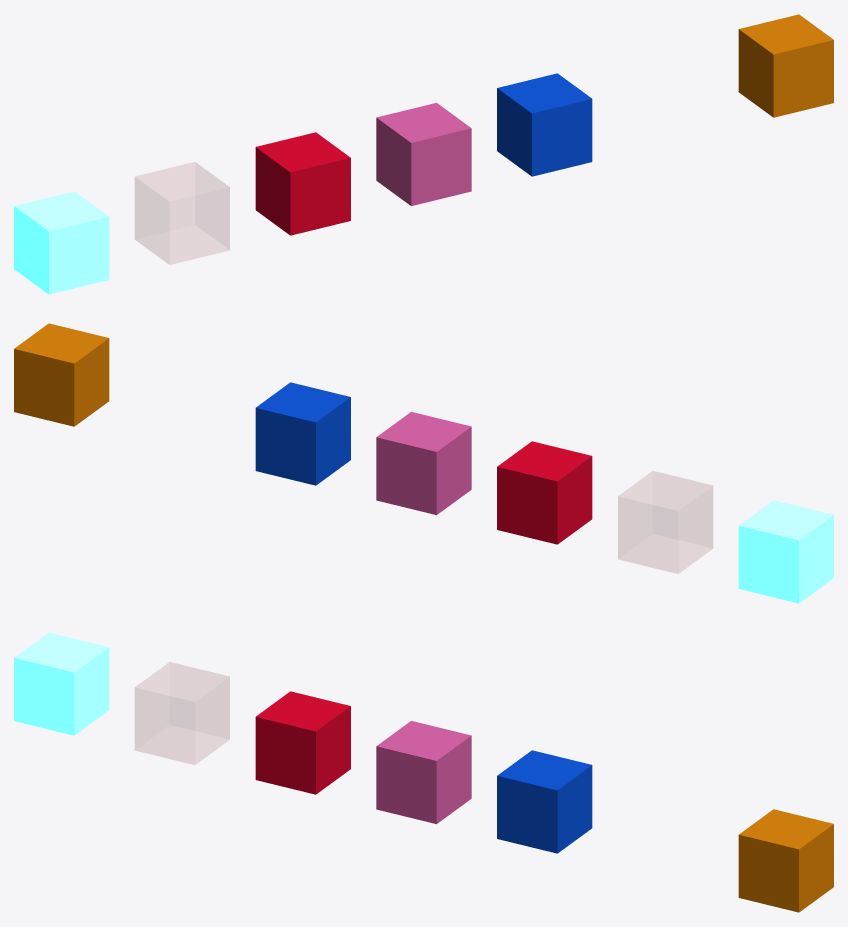
The model's file is materials_library.glb.
3 renders of one model, top to bottom at view 1: azimuth 30°, elevation 25°; view 2: azimuth 150°, elevation 25°; view 3: azimuth 330°, elevation 25°, orthographic.
Visible parts, largest first — view 1: Material_MaterialInBlueprintOnly.004, Material_Material.001, Material_Env_blue.004, Material_Glowy.006, Material_Env_orange.004, Material_Sensor_material.004; view 2: Material_MaterialInBlueprintOnly.004, Material_Material.001, Material_Env_blue.004, Material_Glowy.006, Material_Env_orange.004, Material_Sensor_material.004; view 3: Material_MaterialInBlueprintOnly.004, Material_Material.001, Material_Env_blue.004, Material_Glowy.006, Material_Env_orange.004, Material_Sensor_material.004.
Part boxes in pixels (box(x1,y1,x2,y2)): Material_MaterialInBlueprintOnly.004: box(376, 102, 471, 206); Material_Material.001: box(255, 132, 350, 235); Material_Env_blue.004: box(497, 73, 592, 176); Material_Glowy.006: box(14, 191, 109, 294); Material_Env_orange.004: box(738, 14, 833, 117); Material_Sensor_material.004: box(135, 162, 229, 264); Material_MaterialInBlueprintOnly.004: box(376, 411, 471, 515); Material_Material.001: box(497, 441, 592, 544); Material_Env_blue.004: box(255, 382, 350, 485); Material_Glowy.006: box(738, 500, 833, 603); Material_Env_orange.004: box(14, 323, 109, 426); Material_Sensor_material.004: box(618, 471, 712, 573); Material_MaterialInBlueprintOnly.004: box(376, 720, 471, 824); Material_Material.001: box(255, 691, 350, 794); Material_Env_blue.004: box(497, 750, 592, 853); Material_Glowy.006: box(14, 632, 109, 735); Material_Env_orange.004: box(738, 809, 833, 912); Material_Sensor_material.004: box(135, 662, 229, 764).
Size of what is drawn, in the model's own units: 1.3 by 0.1 by 0.1.
